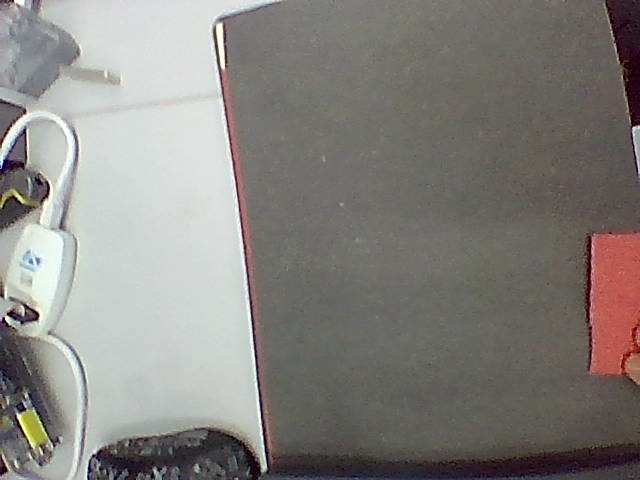card: (589, 232, 639, 380)
